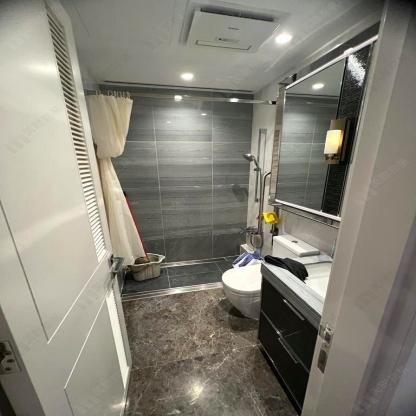Thermo Ventilator: (167, 0, 293, 55)
Toilet: (220, 234, 320, 319)
Toilet Sink: (260, 254, 332, 329)
Water Cubicle: (85, 86, 277, 302)
